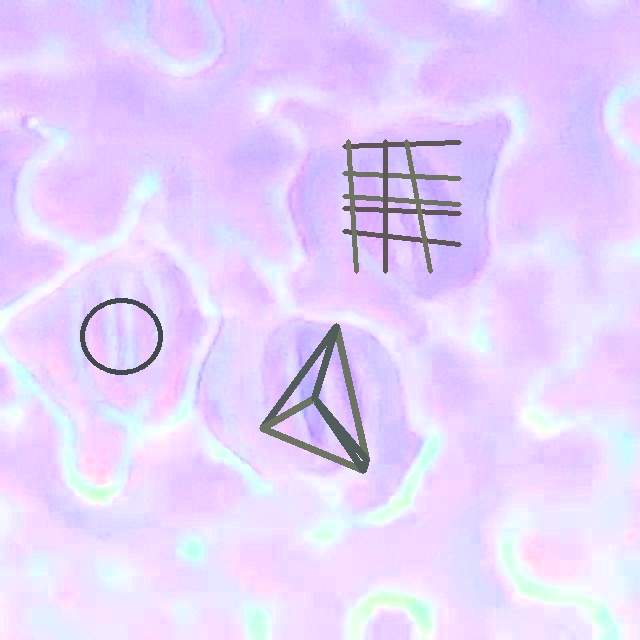open: (260, 323, 368, 472), (342, 139, 461, 273), (78, 297, 163, 376)
